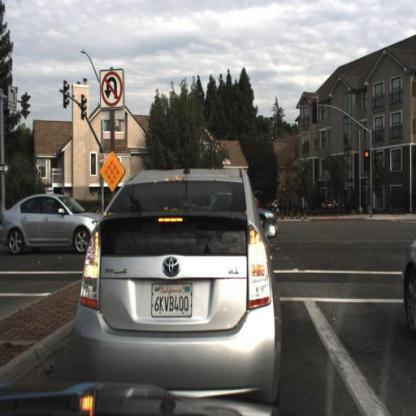car: (67, 154, 284, 394), (0, 180, 105, 270), (397, 219, 415, 347), (259, 195, 282, 235)
trafficLight-Red: (308, 90, 320, 126), (360, 144, 372, 174)
